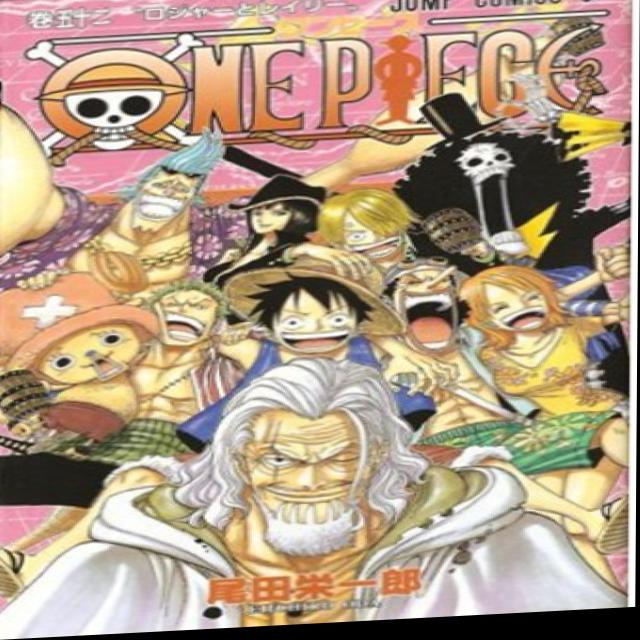Blook: (385, 93, 582, 269)
Chyopa: (0, 269, 167, 392)
Franky: (114, 129, 229, 237)
Luffy: (226, 257, 404, 366)
Nami: (456, 262, 576, 347)
NicoRobin: (229, 177, 327, 244)
Sangdi: (310, 182, 422, 265)
Usopp: (382, 256, 470, 361)
Zoro: (147, 273, 231, 356)
